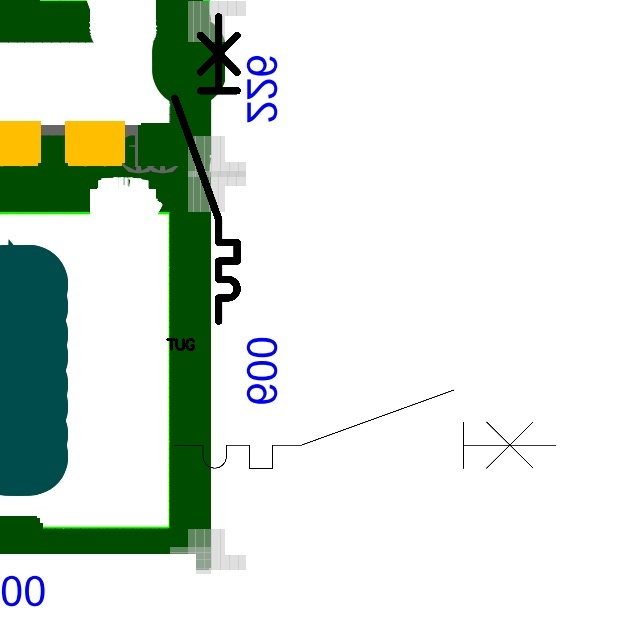interruptor_termomagnetico: (164, 380, 566, 478), (167, 9, 245, 329)
